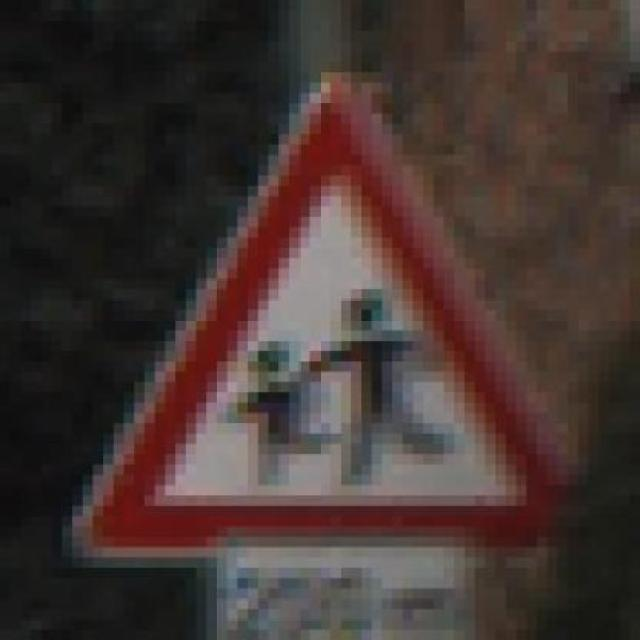Beware of children: (61, 51, 598, 578)
